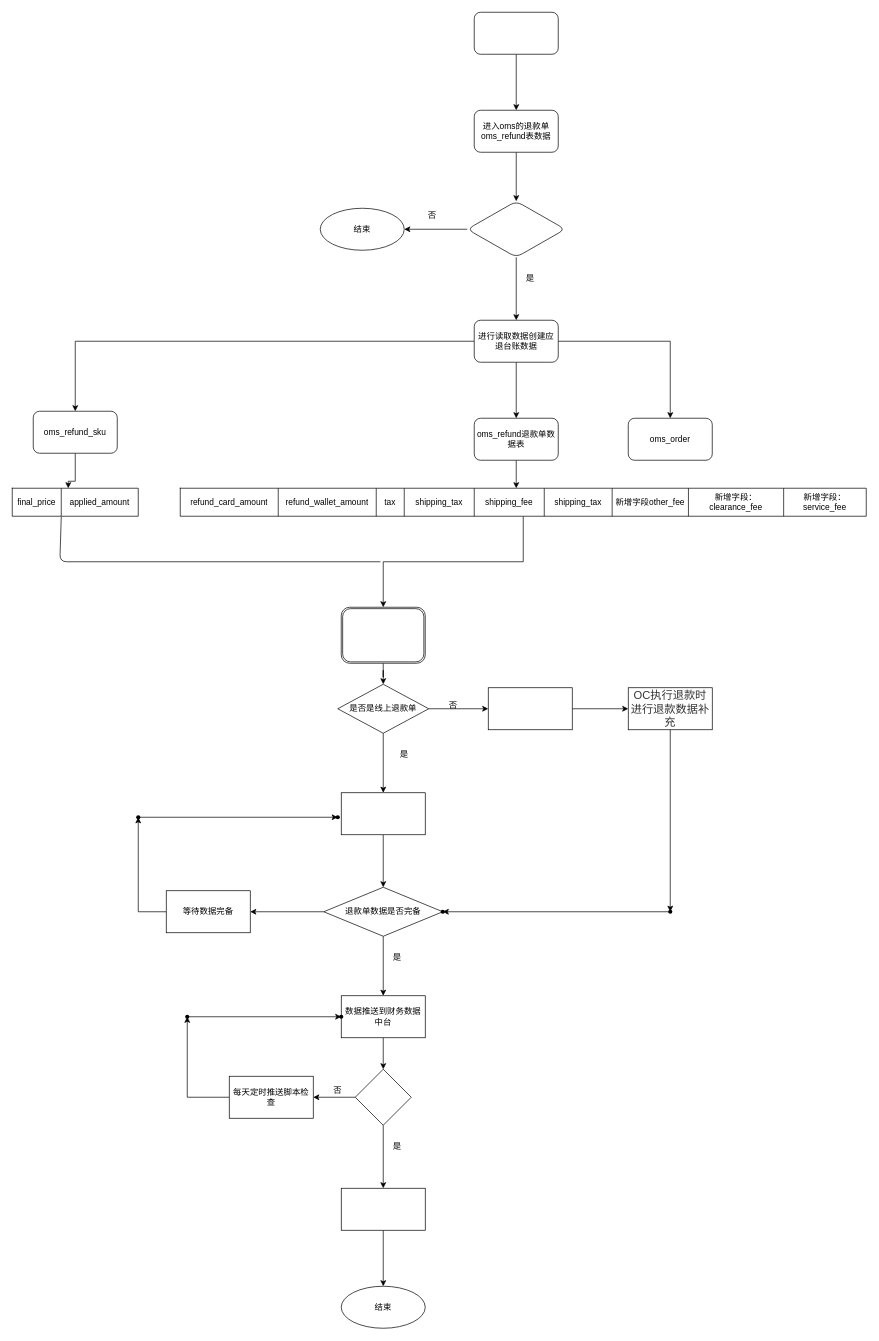
Image size: 879x1341. Some labels were removed from this diagram. Here are the shapes that lost their labels. From the top down, the centre of each, then its label:
At [516,33]: "销售应退台账数据".
At [516,229]: "状态是否等于= refunded".
At [383,635]: "收取数据初步完整".
At [530,708]: "线下退款".
At [383,813]: "有支付系统读写完毕后，补充退款单数据".
At [383,1097]: "成功".
At [383,1209]: "改写数据状态".
